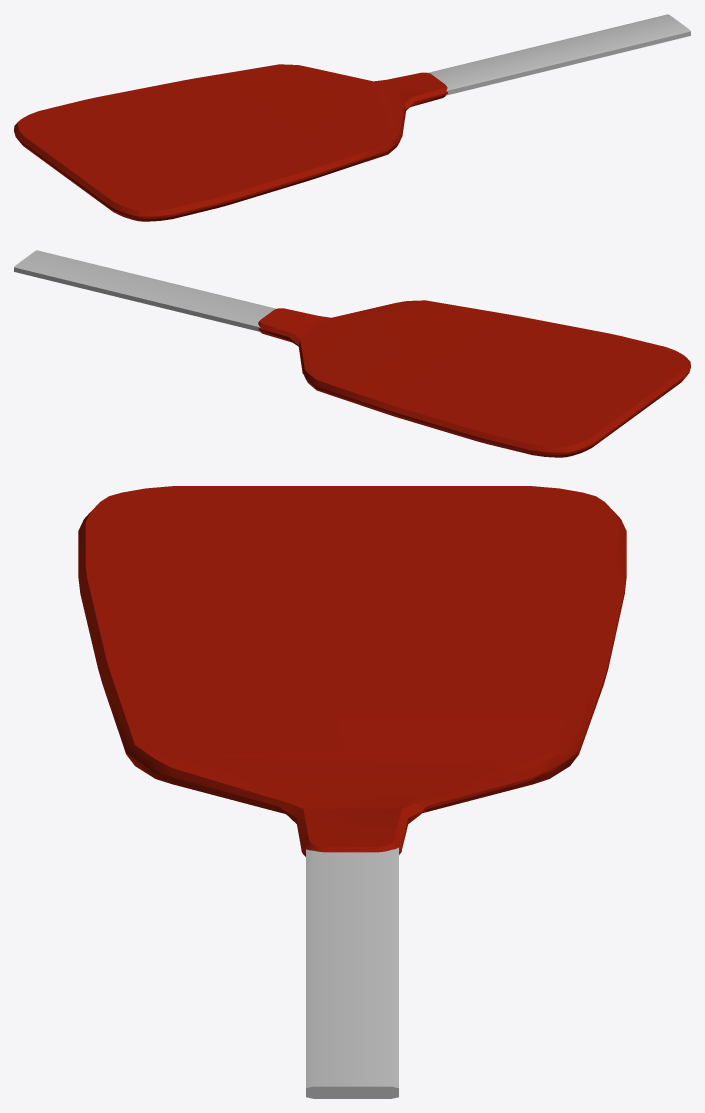
The model's file is silliconeSpatula.fbx.
3 renders of one model, top to bottom at view 1: azimuth 30°, elevation 25°; view 2: azimuth 150°, elevation 25°; view 3: azimuth 270°, elevation 25°, orthographic. The views are drawn at different scales.
Visible parts, largest first — view 1: SpatulaJOINED; view 2: SpatulaJOINED; view 3: SpatulaJOINED.
Part boxes in pixels (box(x1,y1,x2,y2)): SpatulaJOINED: box(14, 14, 690, 221); SpatulaJOINED: box(14, 250, 690, 457); SpatulaJOINED: box(78, 486, 626, 1098).
Size of the model in its own units: 183 by 3.01 by 70.96.
